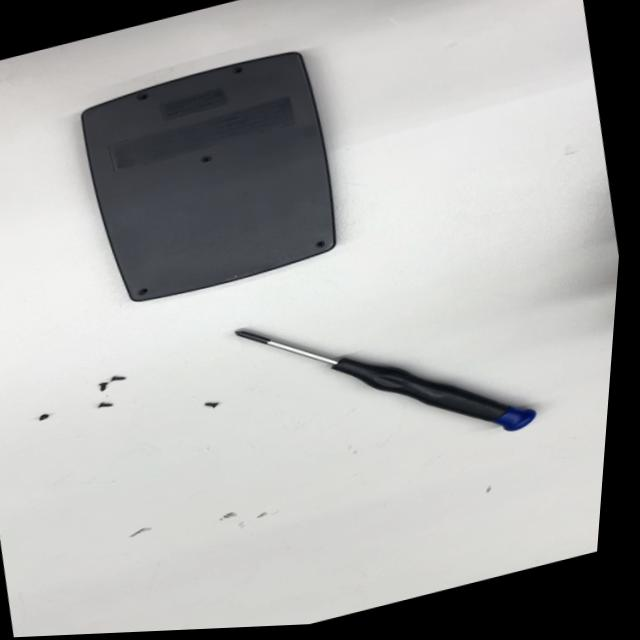back_cover: (58, 38, 362, 318)
screw: (92, 394, 120, 415), (200, 396, 224, 414), (92, 379, 115, 395), (108, 370, 131, 386), (33, 409, 54, 424)
screw_driver: (218, 253, 555, 501)
